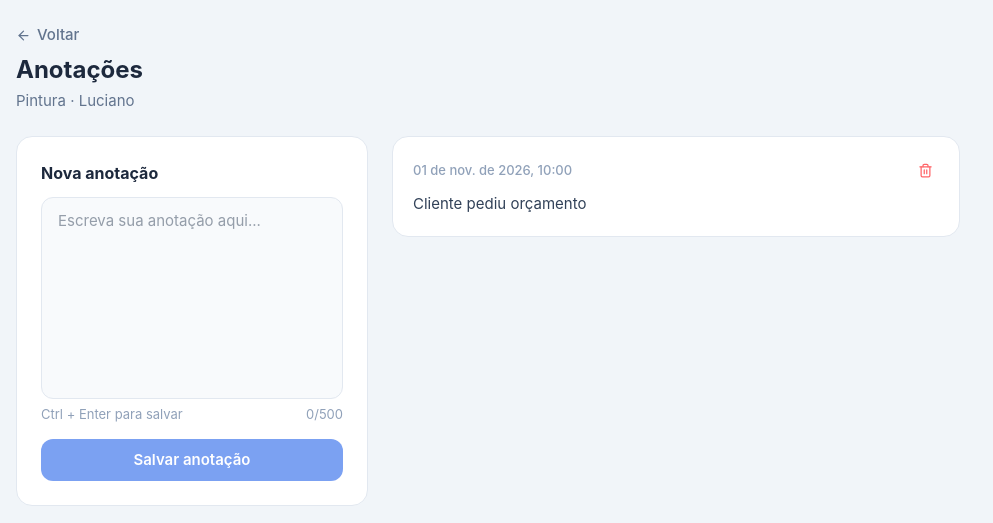
tela de Anotações › remove depois de confirmar
Expected: the text "Cliente pediu orçamento" is shown, [413,194,586,213]
What coordinates should you click on to do the following:
click the button named "Remover anotação"
I would click on:
 (926, 170)
Its box is [912,157,939,184].
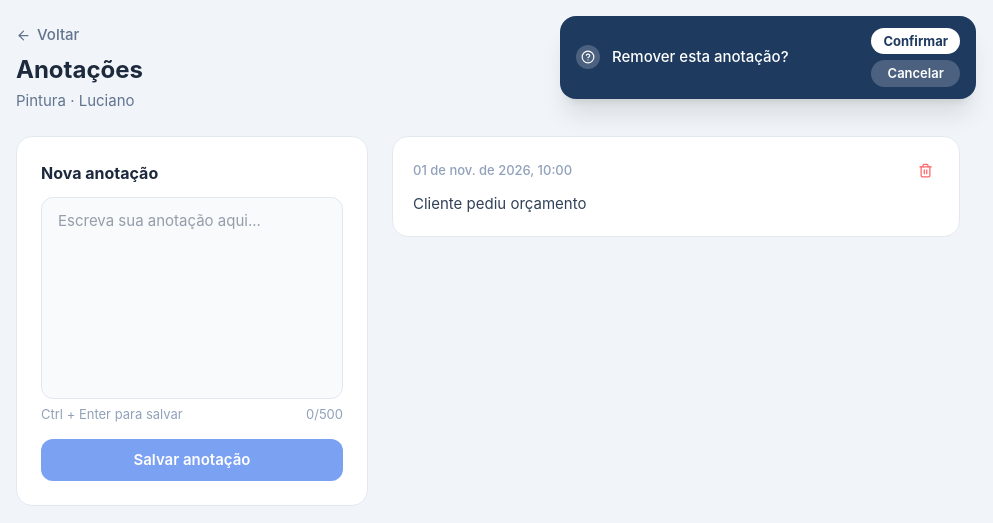
What coordinates should you click on to do the following:
click the button "Confirmar"
I would click on:
 (916, 41)
Its box is [871,28,960,54].
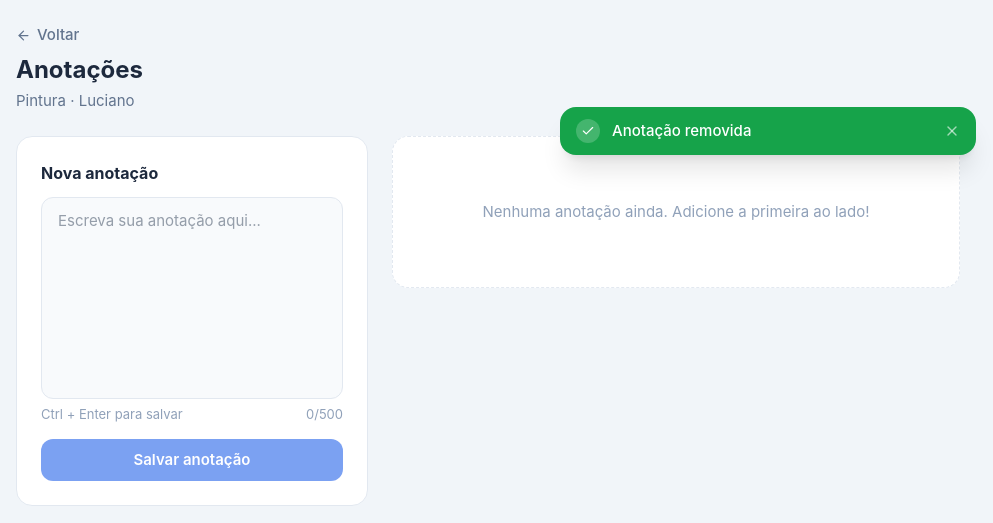
Expected: the text "Cliente pediu orçamento" is gone
Expected: the text "Nenhuma anotação ainda. Adicione a primeira ao lado!" is shown, [392,136,960,288]
